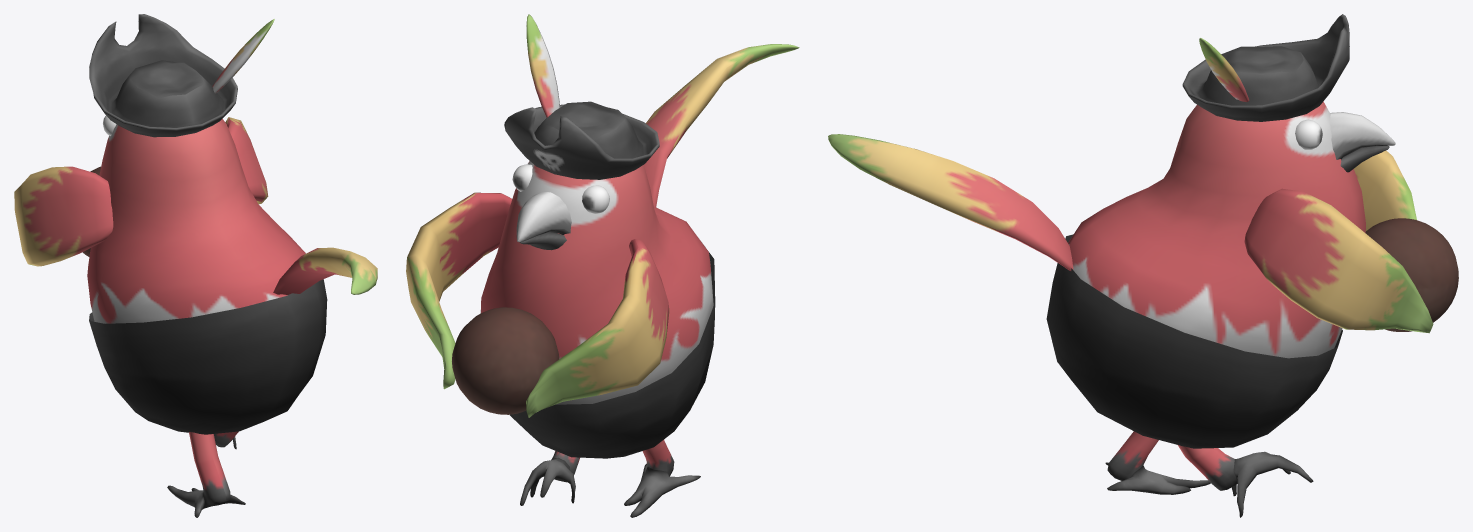
File: oumu_walk_b_04.fbx
3 views of the same model, side by side, from view 1: azimuth 30°, elevation 25°; view 2: azimuth 150°, elevation 25°; view 3: azimuth 270°, elevation 25° (orthographic). The views are drawn at different scales.
Visible parts, largest first — view 1: W_b_04; view 2: W_b_04; view 3: W_b_04.
Part boxes in pixels (x1,y1,x2,y2): W_b_04: [14, 14, 377, 517]; W_b_04: [406, 14, 799, 517]; W_b_04: [828, 14, 1458, 517].
Size of the model in its own units: 1.11 by 2.09 by 2.36.
2 materials, 2 textured.
